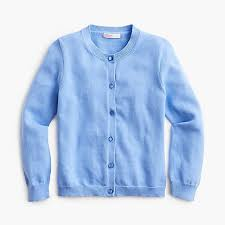C_cardigan sweater: (16, 20, 212, 215)
